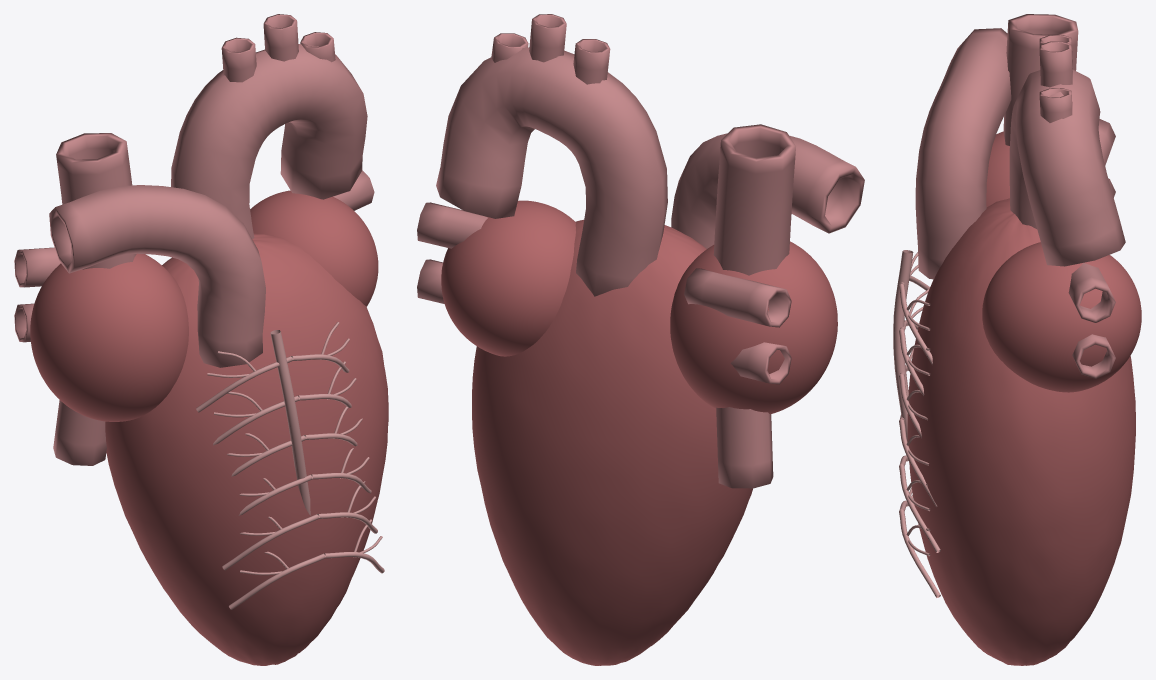
File: reference-heart.glb
3 renders of one model, left to right at view 1: azimuth 30°, elevation 25°; view 2: azimuth 150°, elevation 25°; view 3: azimuth 270°, elevation 25°, orthographic. The views are drawn at different scales.
Parts seen in each view (by area): view 1: Ventricular myocardium; view 2: Ventricular myocardium; view 3: Ventricular myocardium.
Boxes of the visible parts, x1,y1,x2,y2 form: Ventricular myocardium: (14,14,388,665); Ventricular myocardium: (417,14,864,665); Ventricular myocardium: (893,14,1141,665).
Size of the model in its own units: 1.37 by 2.26 by 0.8078.
